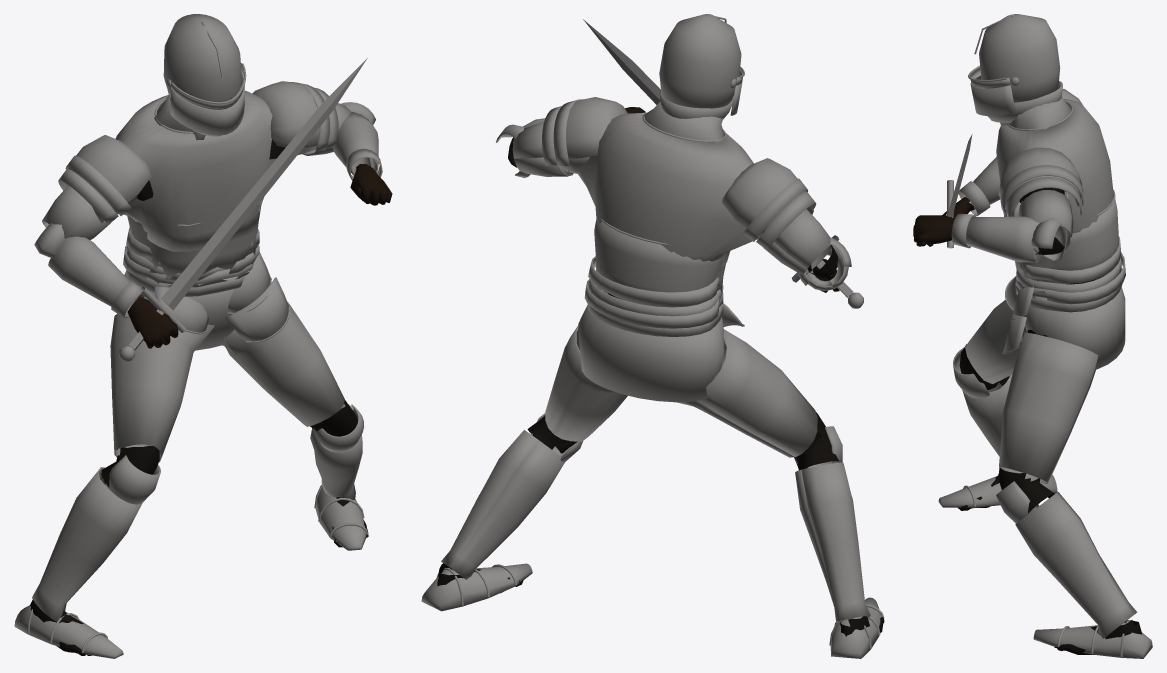
File: knight_makehuman.glb
The picture shows the model from 3 angles, left to right: view 1: azimuth 30°, elevation 25°; view 2: azimuth 150°, elevation 25°; view 3: azimuth 270°, elevation 25°; orthographic projection. The views are drawn at different scales.
Visible parts, largest first — view 1: SilverKnight_Static_MakeHuman; view 2: SilverKnight_Static_MakeHuman; view 3: SilverKnight_Static_MakeHuman.
Boxes of the visible parts, x1,y1,x2,y2 form: SilverKnight_Static_MakeHuman: (14,14,392,658); SilverKnight_Static_MakeHuman: (421,14,884,658); SilverKnight_Static_MakeHuman: (913,14,1152,658).
Size of the model in its own units: 1.14 by 1.67 by 0.6563.
1 material, 1 textured.
